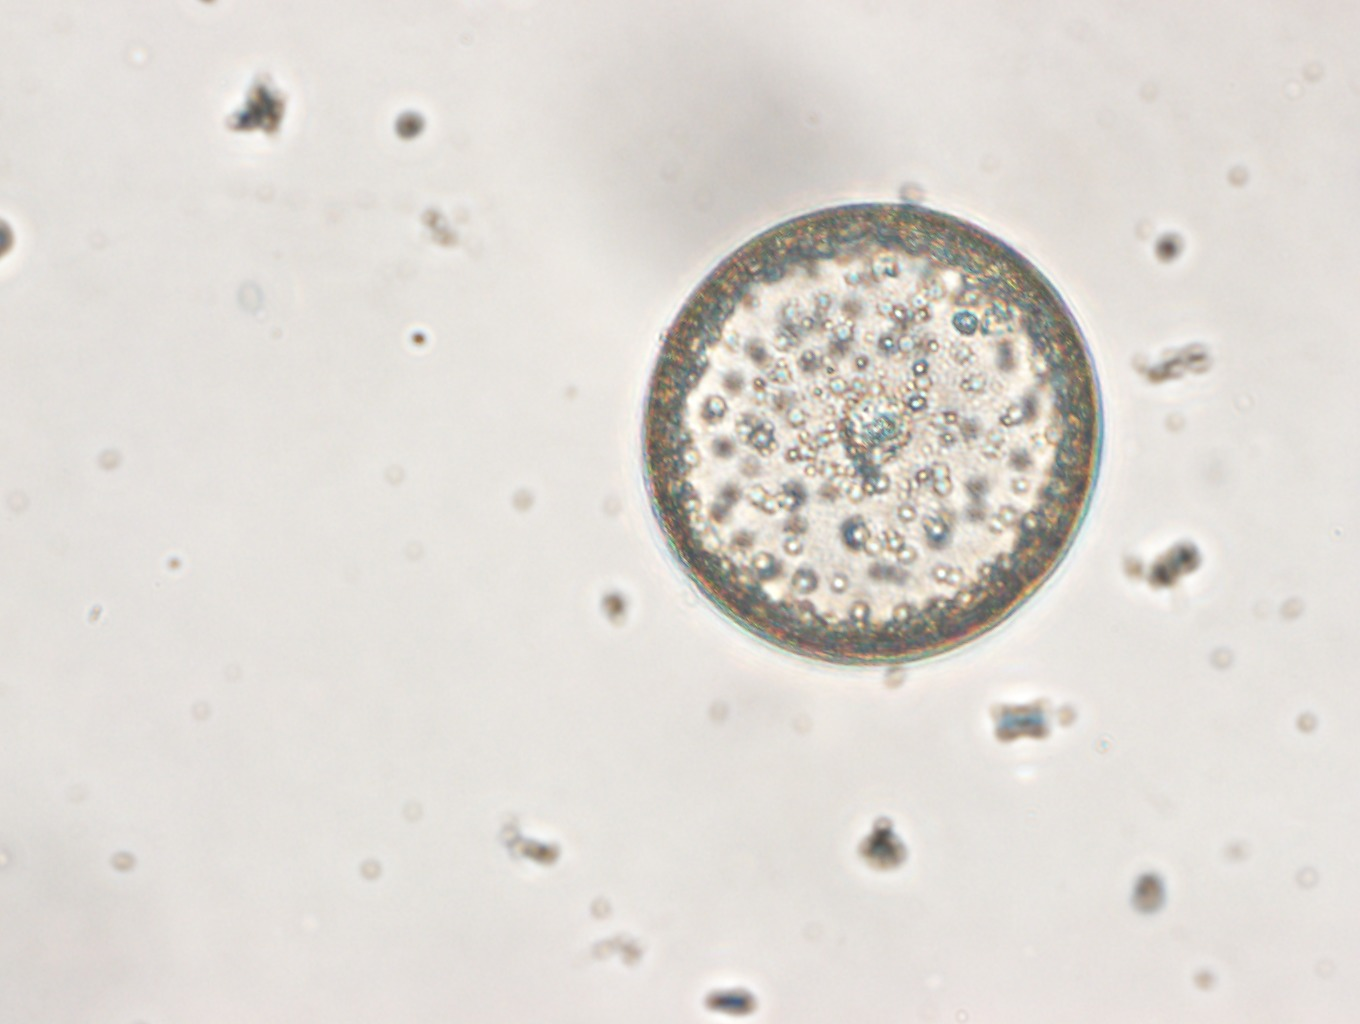coscinodiscus: (634, 196, 1110, 675)
